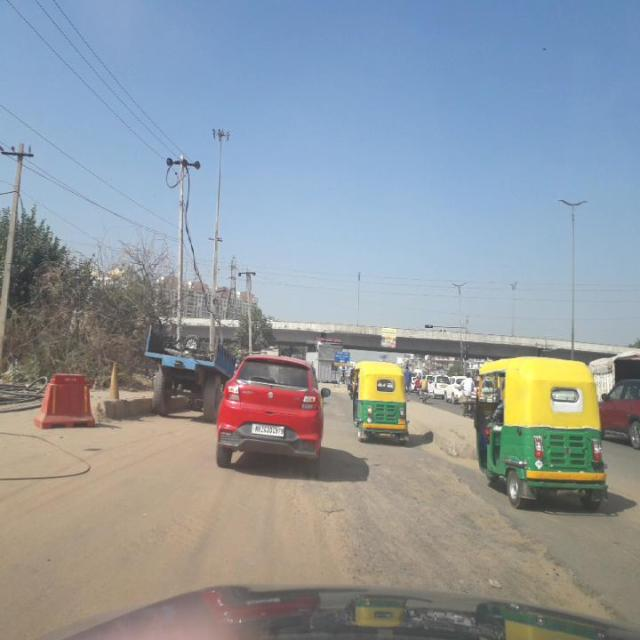Surface Erosion: (301, 368, 602, 640)
